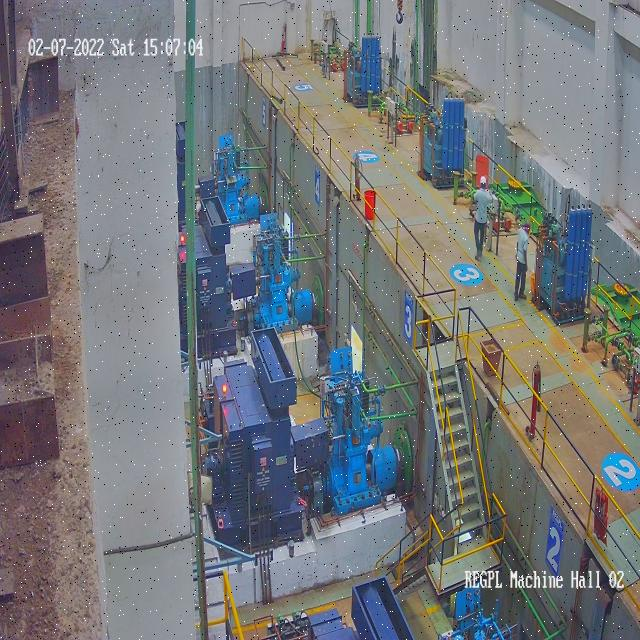Boots: (518, 292, 527, 300), (472, 251, 481, 259), (515, 292, 518, 303)
